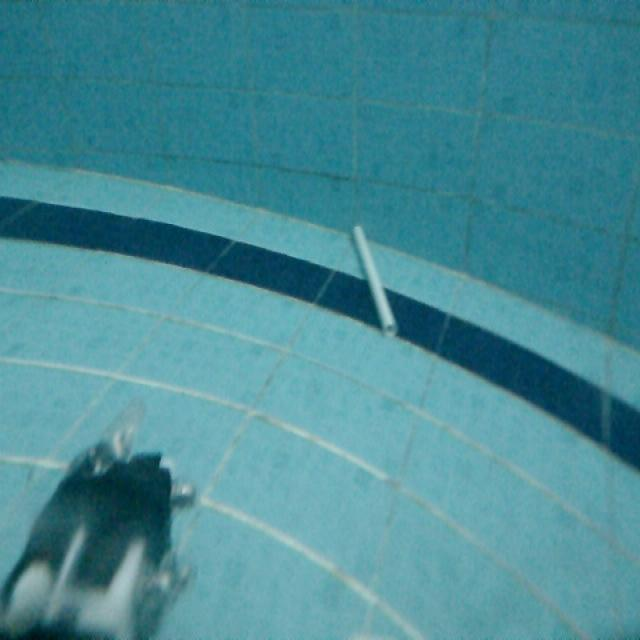Cube: (349, 222, 405, 344)
